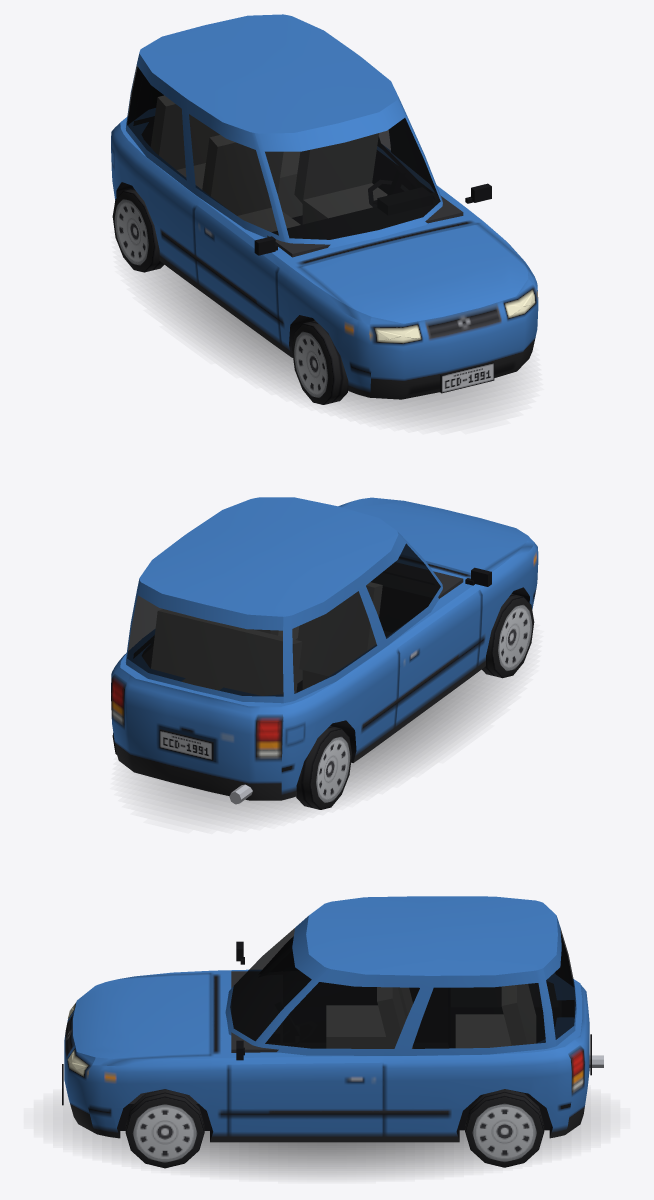
Rendered from cocada.glb.
The picture shows the model from 3 angles, top to bottom: view 1: azimuth 30°, elevation 25°; view 2: azimuth 150°, elevation 25°; view 3: azimuth 270°, elevation 25°; orthographic projection. The views are drawn at different scales.
Visible parts, largest first — view 1: Carroceria, Interior, Capo_malha, Porta_D_malha, Sombra, Roda_DD, Roda_TD, Porta_E_malha, Tampa_malha; view 2: Carroceria, Tampa_malha, Interior, Porta_D_malha, Sombra, Capo_malha, Roda_TD, Roda_DD, Lanterna; view 3: Carroceria, Porta_E_malha, Interior, Sombra, Capo_malha, Roda_DE, Roda_TE, Tampa_malha, Porta_D_malha.
Part boxes in pixels (<box>): Carroceria: <box>111,14,538,399</box>; Interior: <box>134,96,463,320</box>; Capo_malha: <box>299,223,533,325</box>; Porta_D_malha: <box>194,115,284,340</box>; Sombra: <box>139,265,518,420</box>; Roda_DD: <box>292,320,348,404</box>; Roda_TD: <box>112,188,164,272</box>; Porta_E_malha: <box>389,97,491,203</box>; Tampa_malha: <box>128,68,162,123</box>; Carroceria: <box>111,497,538,804</box>; Tampa_malha: <box>124,582,283,779</box>; Interior: <box>134,562,463,695</box>; Porta_D_malha: <box>382,533,491,723</box>; Sombra: <box>135,670,509,819</box>; Capo_malha: <box>339,497,533,573</box>; Roda_TD: <box>296,726,352,809</box>; Roda_DD: <box>482,593,534,678</box>; Lanterna: <box>112,682,279,756</box>; Carroceria: <box>62,896,603,1142</box>; Porta_E_malha: <box>228,968,383,1133</box>; Interior: <box>129,946,573,1103</box>; Sombra: <box>63,1106,590,1175</box>; Capo_malha: <box>78,973,210,1065</box>; Roda_DE: <box>125,1089,204,1168</box>; Roda_TE: <box>465,1089,544,1167</box>; Tampa_malha: <box>543,916,591,1104</box>; Porta_D_malha: <box>236,938,297,973</box>.
Bounding box in the file's own units: 2.21 × 1.45 × 4.35.
12 materials, 6 textured.
